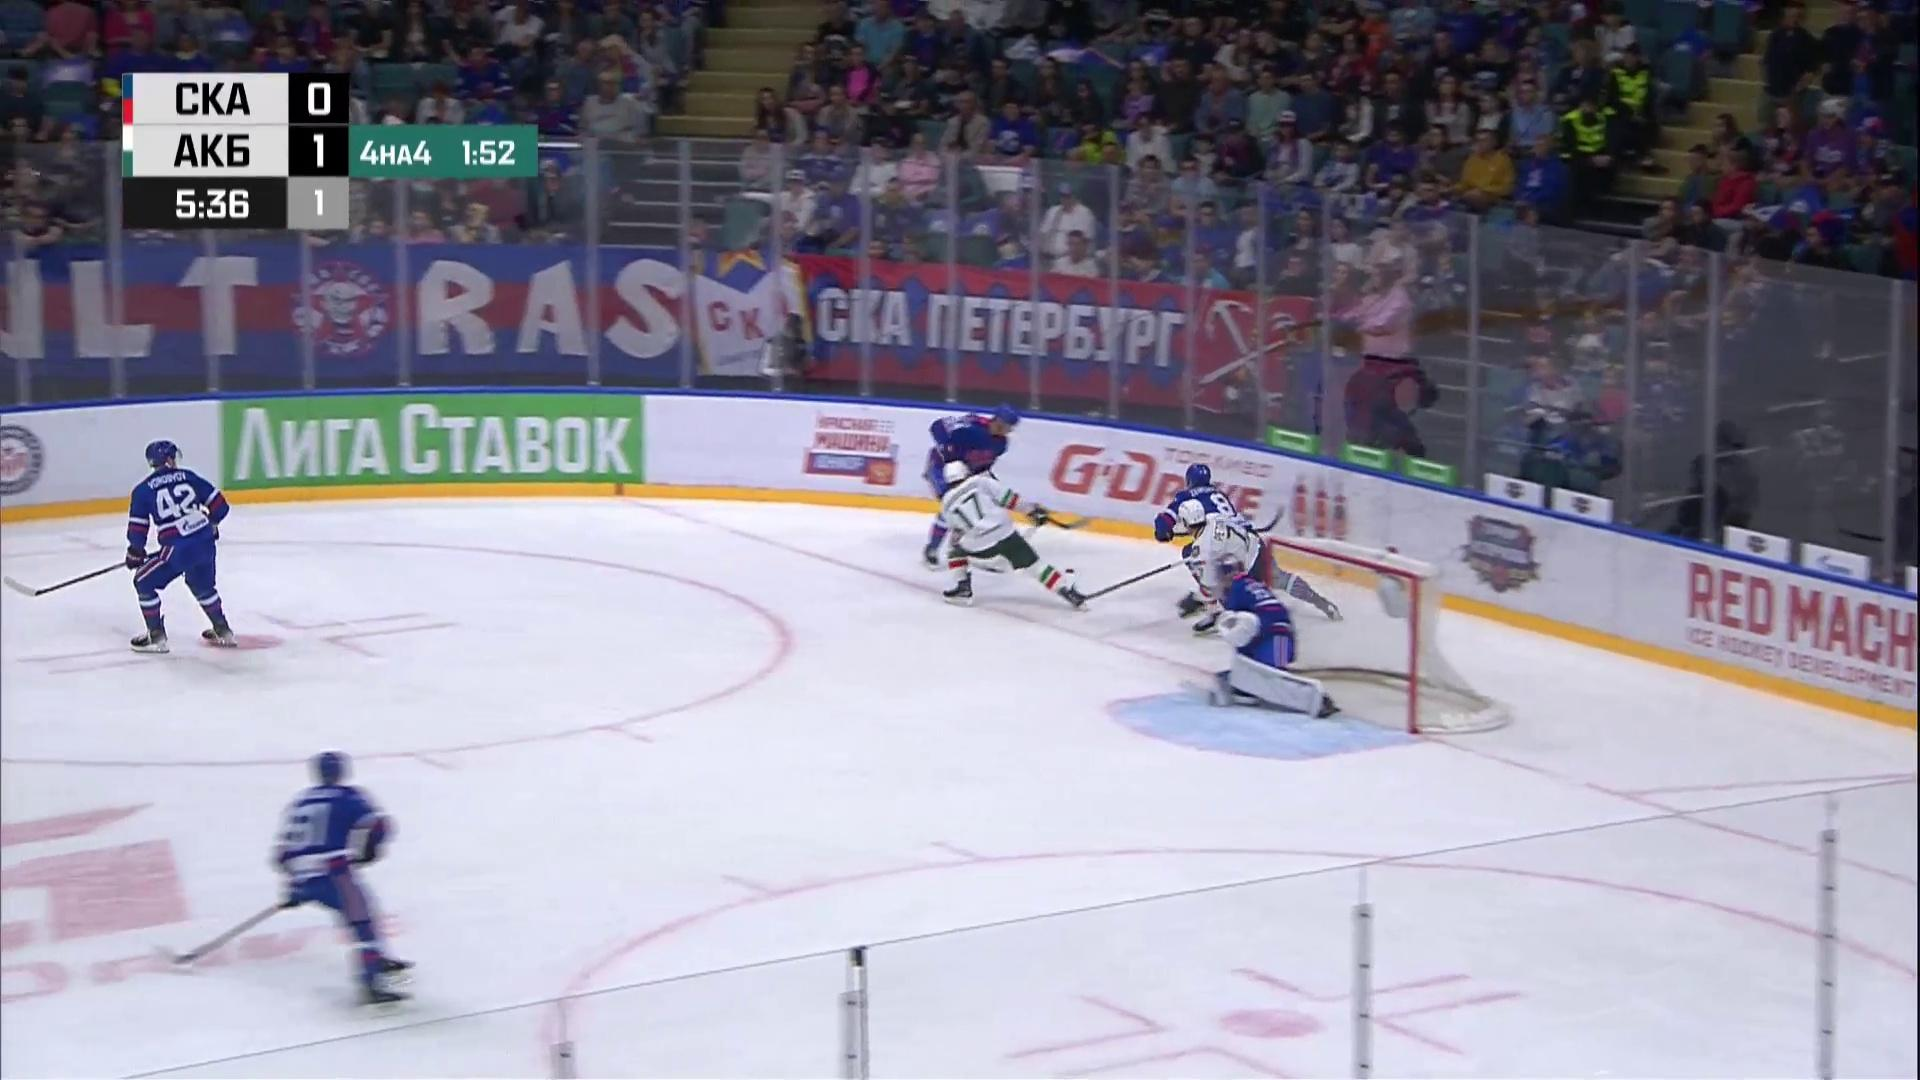ball: (1065, 568, 1075, 574)
